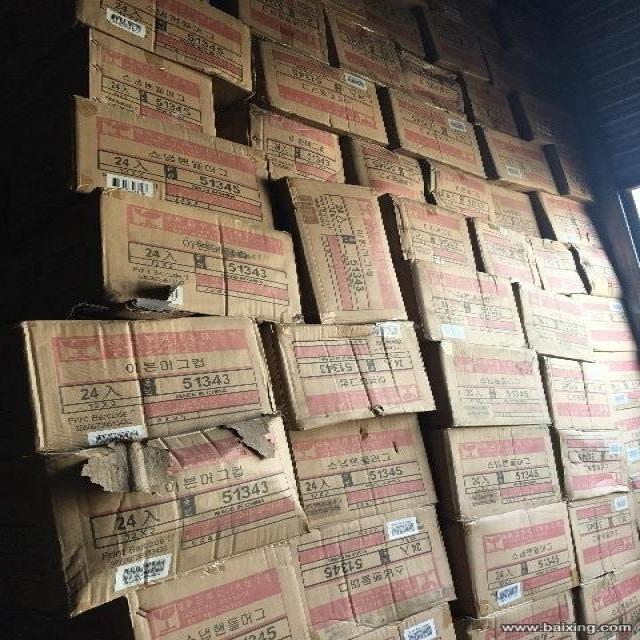box: (13, 412, 311, 618), (4, 299, 281, 452), (92, 186, 307, 324), (71, 94, 276, 229), (287, 503, 459, 640), (71, 0, 256, 115), (271, 176, 409, 324), (259, 317, 437, 431), (121, 540, 313, 640), (285, 412, 440, 530), (443, 501, 580, 619), (253, 35, 391, 147), (77, 27, 213, 136), (428, 426, 567, 520), (396, 259, 529, 348), (419, 340, 553, 427), (384, 84, 487, 179), (239, 105, 347, 183), (379, 193, 480, 272), (324, 2, 407, 91), (511, 280, 597, 364), (568, 492, 640, 586), (453, 588, 581, 640), (471, 122, 560, 196), (537, 353, 619, 430), (235, 0, 331, 65), (551, 429, 632, 501), (468, 214, 544, 289), (396, 47, 469, 121), (575, 559, 639, 640), (348, 137, 428, 201), (420, 11, 491, 83), (420, 160, 497, 224), (528, 190, 607, 248), (511, 91, 585, 150), (349, 601, 457, 640), (568, 294, 639, 352), (528, 233, 589, 294), (543, 143, 600, 205), (367, 1, 427, 56), (565, 243, 625, 297), (468, 77, 521, 136), (493, 182, 544, 238), (596, 351, 640, 411), (616, 407, 640, 491), (324, 1, 367, 20), (633, 488, 640, 536)
